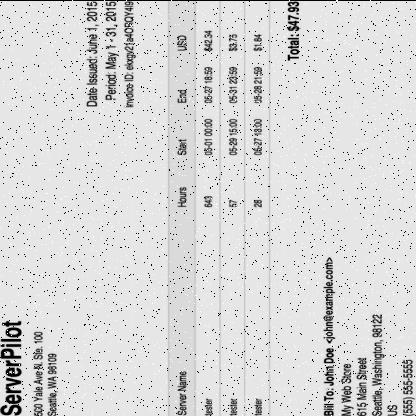Paragraph: (317, 256, 416, 416), (82, 0, 140, 108), (0, 317, 61, 416), (283, 0, 305, 61)
Table: (168, 27, 268, 416)
